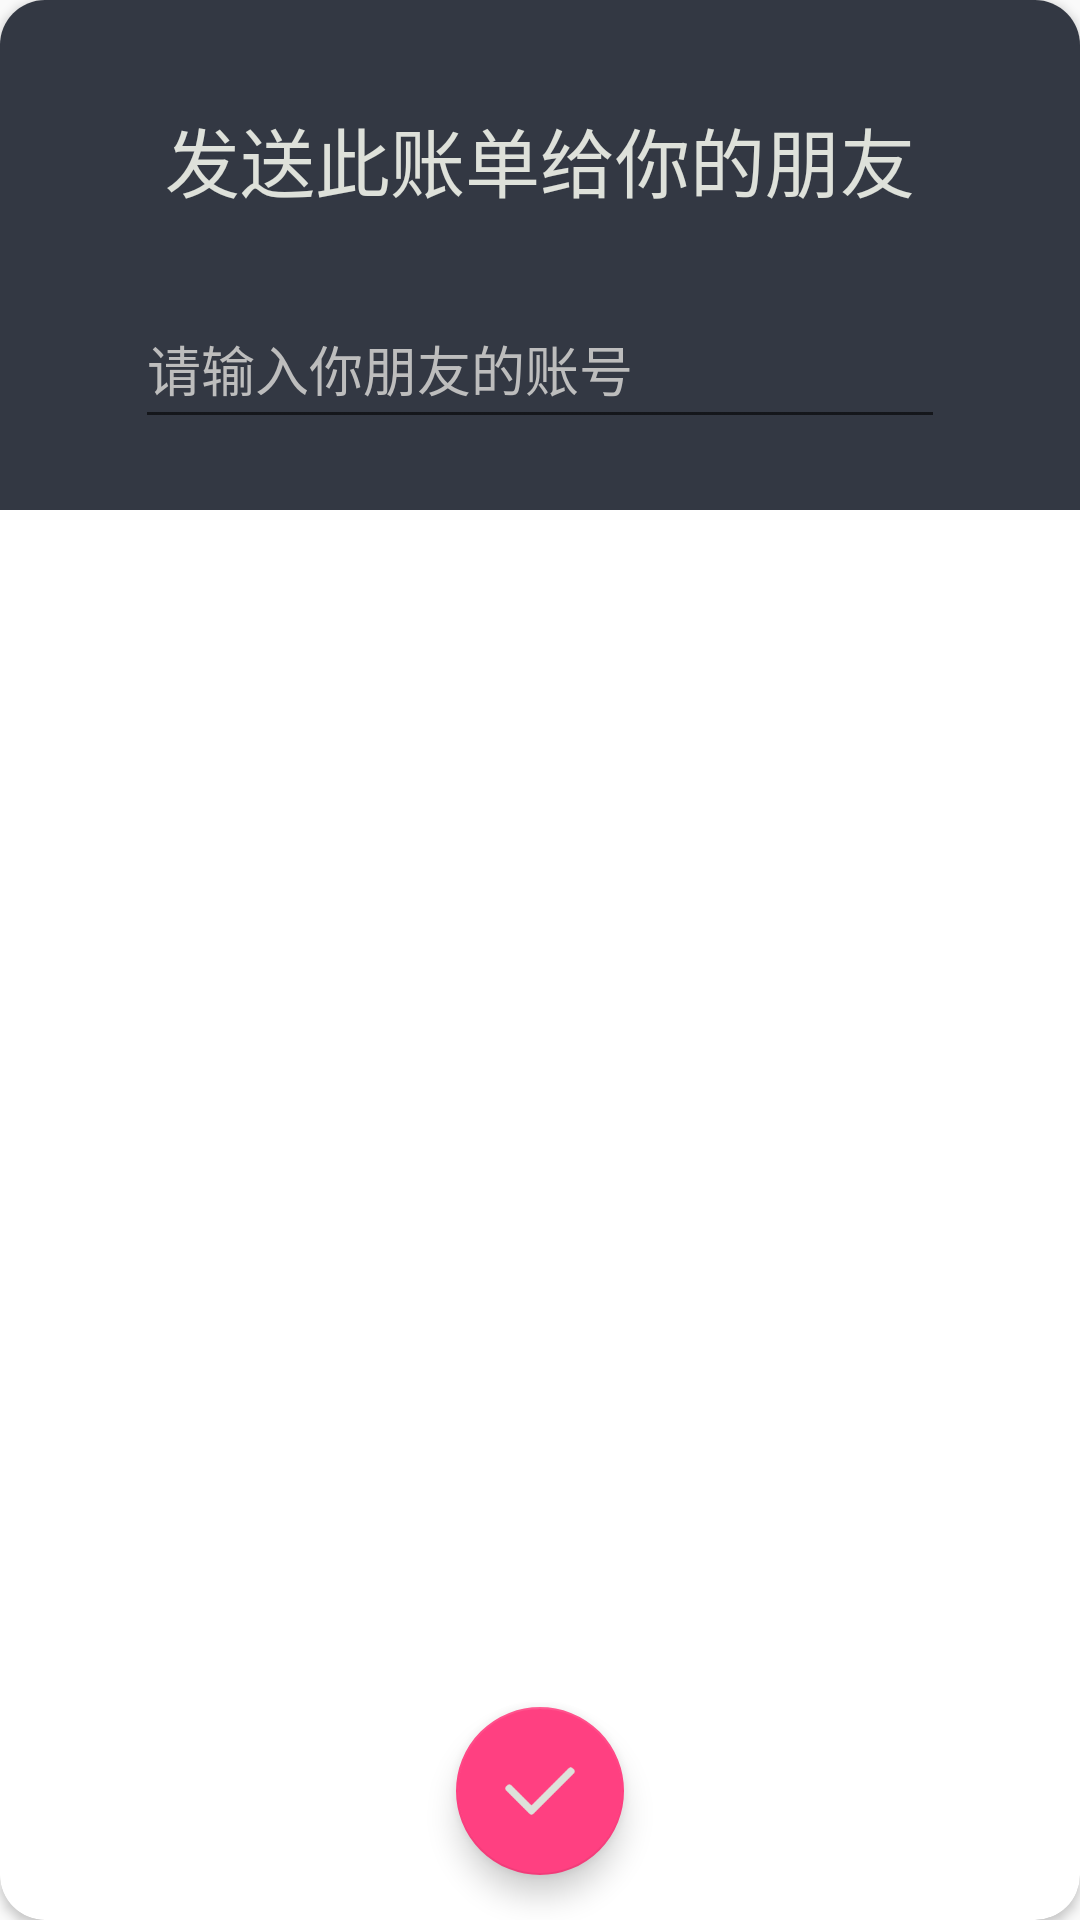

Screen size 1080px×1920px. Icon name, then its center in pixels as (x,y):
dui: (540,1791)
